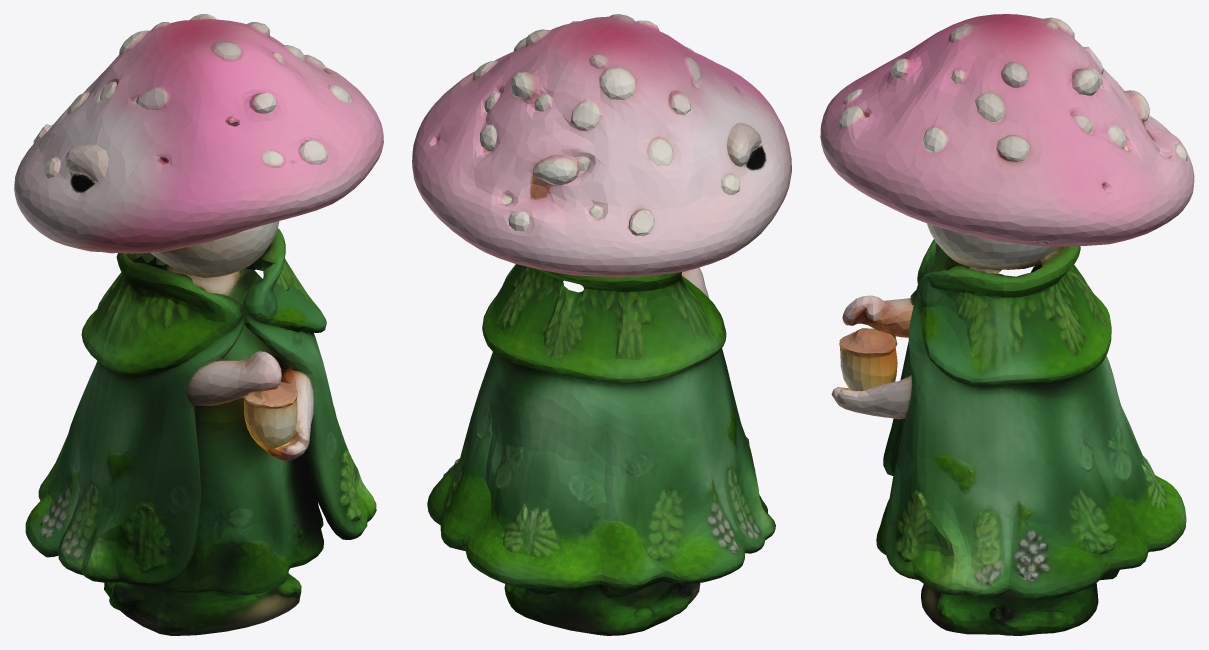
The model's file is mushroom-spirit.glb.
The picture shows the model from 3 angles, left to right: view 1: azimuth 30°, elevation 25°; view 2: azimuth 150°, elevation 25°; view 3: azimuth 270°, elevation 25°; orthographic projection.
Visible parts, largest first — view 1: geometry_0; view 2: geometry_0; view 3: geometry_0.
Part boxes in pixels (<box>): geometry_0: <box>14,14,383,635</box>; geometry_0: <box>412,14,791,635</box>; geometry_0: <box>820,14,1194,635</box>.
Size of the model in its own units: 0.5965 by 0.9974 by 0.5888.
1 material, 1 textured.
